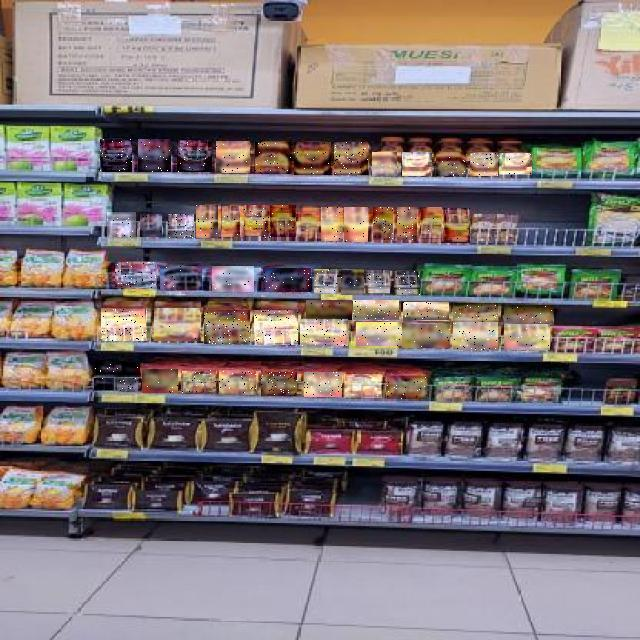Coffee: (102, 308, 150, 341), (204, 310, 250, 344), (254, 310, 298, 345), (154, 308, 200, 341), (301, 319, 349, 346), (453, 322, 498, 350), (294, 142, 331, 175), (256, 143, 294, 175), (505, 324, 551, 350), (263, 268, 311, 292), (402, 324, 450, 348), (334, 142, 368, 175), (177, 140, 212, 172), (356, 322, 402, 346), (212, 266, 254, 292), (138, 139, 171, 172), (216, 141, 250, 173), (115, 263, 156, 289), (100, 139, 132, 172), (160, 267, 202, 291), (304, 372, 342, 397), (219, 370, 256, 395), (306, 300, 352, 320), (353, 300, 399, 320), (387, 376, 427, 399), (344, 374, 382, 398), (444, 208, 470, 243), (270, 206, 296, 240), (245, 206, 271, 240), (504, 305, 553, 323), (142, 369, 178, 393), (261, 372, 297, 396), (453, 303, 498, 322), (344, 207, 368, 242), (403, 302, 449, 320), (499, 154, 532, 178), (182, 370, 216, 393), (420, 208, 442, 242), (196, 205, 218, 238), (107, 212, 136, 237), (436, 152, 466, 176), (403, 152, 433, 176), (322, 207, 342, 241), (373, 208, 393, 242), (397, 208, 417, 242), (300, 206, 318, 242), (470, 153, 498, 176), (168, 214, 194, 238), (365, 271, 391, 295), (394, 271, 420, 295), (372, 152, 397, 176), (314, 269, 337, 294), (341, 270, 364, 295), (222, 206, 240, 237), (140, 214, 162, 237), (95, 360, 119, 374), (117, 378, 138, 391), (94, 378, 114, 390), (123, 362, 141, 375)
